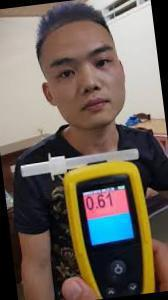Drunk: (40, 29, 126, 121)
